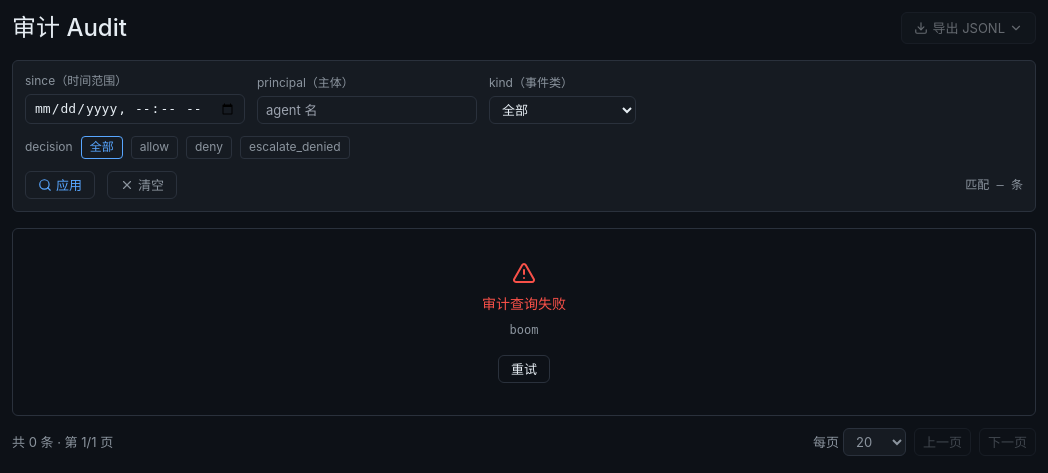
AuditPage — 三态 fail-closed (§3.2) › retry after an error re-queries and recovers to data
Click the button "重试": (524, 369) x1=498 y1=355 x2=550 y2=383
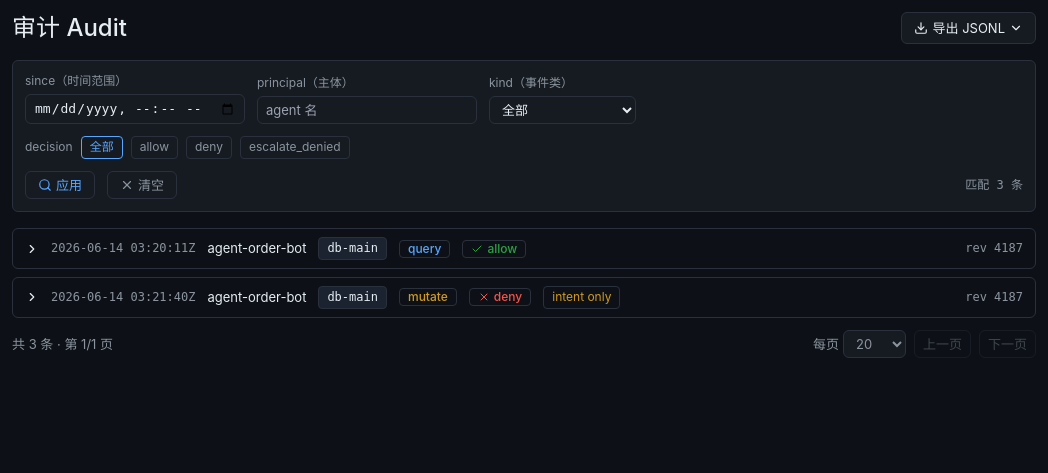
expect the message "审计查询失败 boom 重试" is gone: met
expect the number of list items is 2: met, box x1=12 y1=228 x2=1036 y2=269; x1=12 y1=277 x2=1036 y2=318
